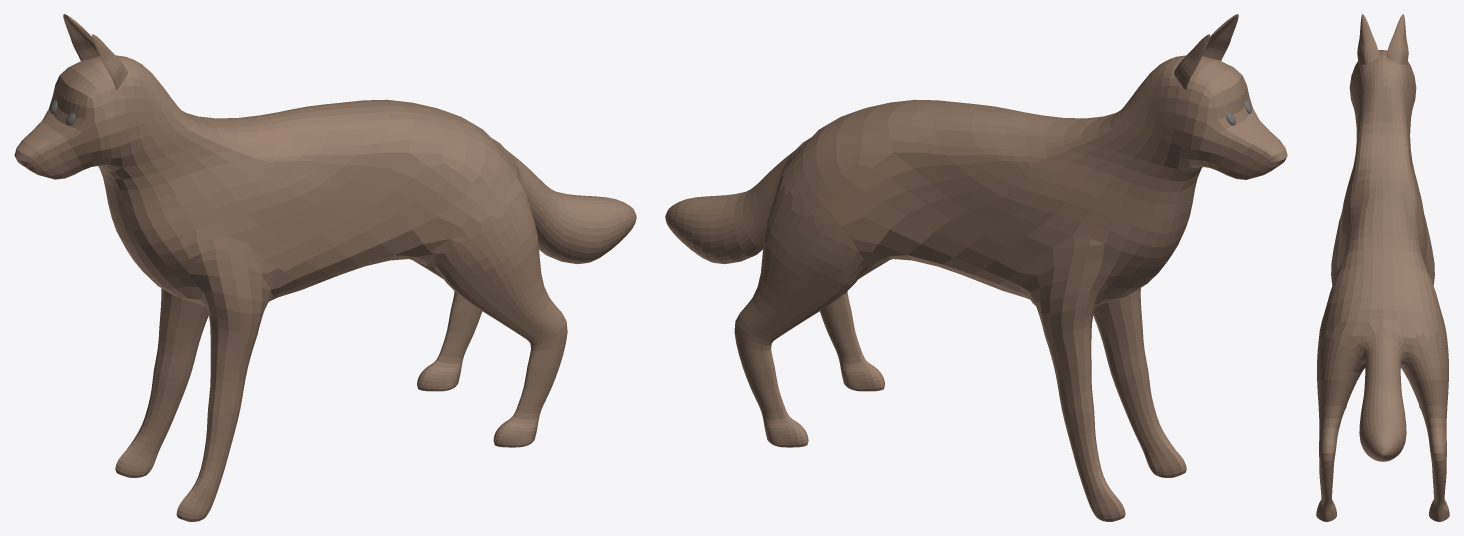
3 views of the same model, side by side, from view 1: azimuth 30°, elevation 25°; view 2: azimuth 150°, elevation 25°; view 3: azimuth 270°, elevation 25° (orthographic). The views are drawn at different scales.
Visible parts, largest first — view 1: Cube; view 2: Cube; view 3: Cube.
Part boxes in pixels (x1,y1,x2,y2): Cube: (14, 14, 636, 521); Cube: (665, 14, 1287, 521); Cube: (1316, 14, 1449, 521).
Bounding box in the file's own units: 418 × 319 × 106.
